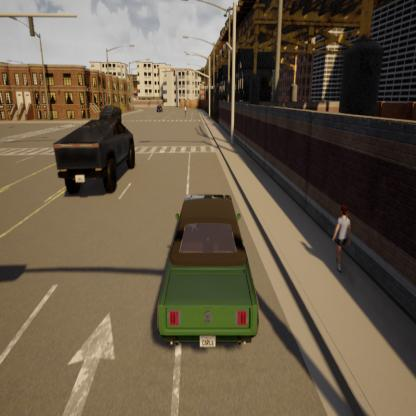Cars: (142, 175, 259, 363), (48, 114, 141, 204), (98, 100, 126, 124), (156, 102, 166, 116)
Pedestrian: (325, 199, 353, 284)
